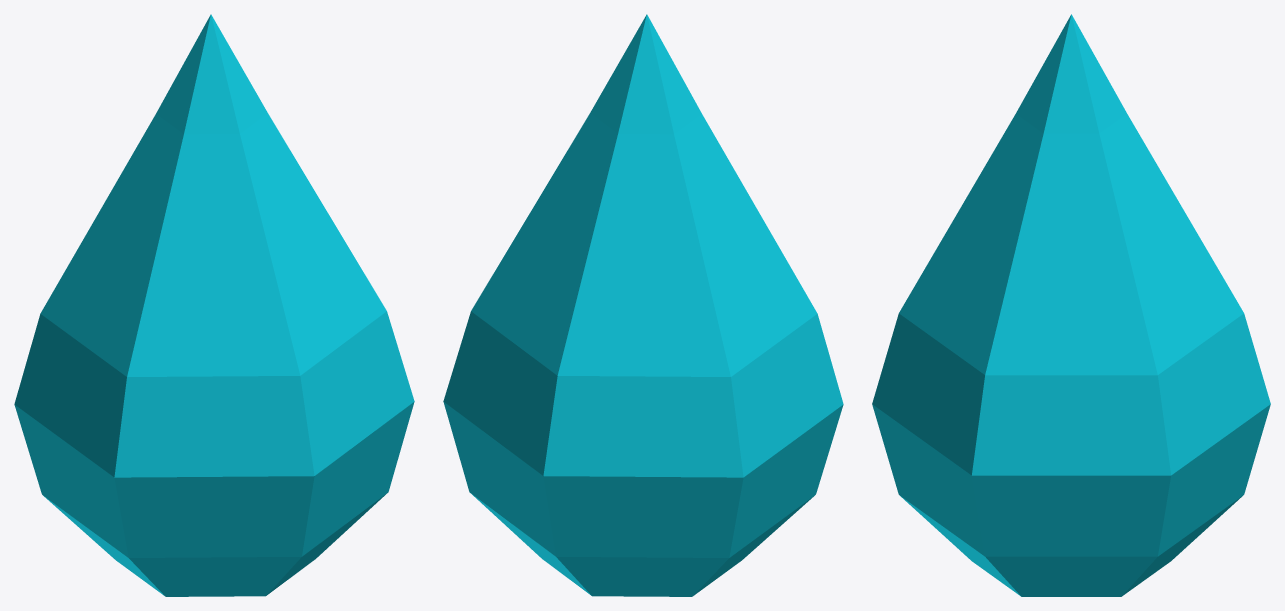
File: gotagua.fbx
The picture shows the model from 3 angles, left to right: view 1: azimuth 30°, elevation 25°; view 2: azimuth 150°, elevation 25°; view 3: azimuth 270°, elevation 25°; orthographic projection.
Visible parts, largest first — view 1: gotagua; view 2: gotagua; view 3: gotagua.
Boxes of the visible parts, <box> form: gotagua: <box>14,14,414,596</box>; gotagua: <box>443,14,843,596</box>; gotagua: <box>872,14,1270,596</box>.
Bounding box in the file's own units: 27.83 × 50.6 × 32.14.
